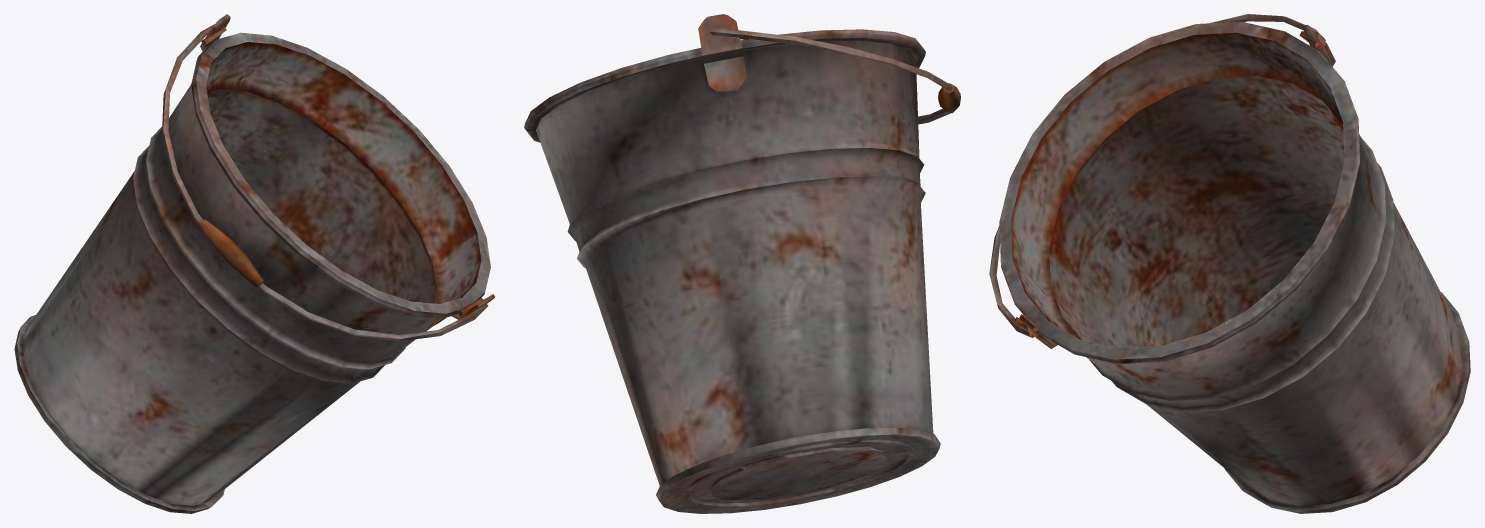
Rendered from rusted_bucket.glb.
3 renders of one model, left to right at view 1: azimuth 30°, elevation 25°; view 2: azimuth 150°, elevation 25°; view 3: azimuth 270°, elevation 25°, orthographic. The views are drawn at different scales.
Visible parts, largest first — view 1: rusted_bucket; view 2: rusted_bucket; view 3: rusted_bucket.
Part boxes in pixels (bbox=[...]): rusted_bucket: bbox=[14, 14, 494, 513]; rusted_bucket: bbox=[524, 14, 960, 513]; rusted_bucket: bbox=[989, 14, 1470, 513].
Size of what is drawn, in the model's own units: 0.2652 by 0.2998 by 0.2659.
1 material, 1 textured.
